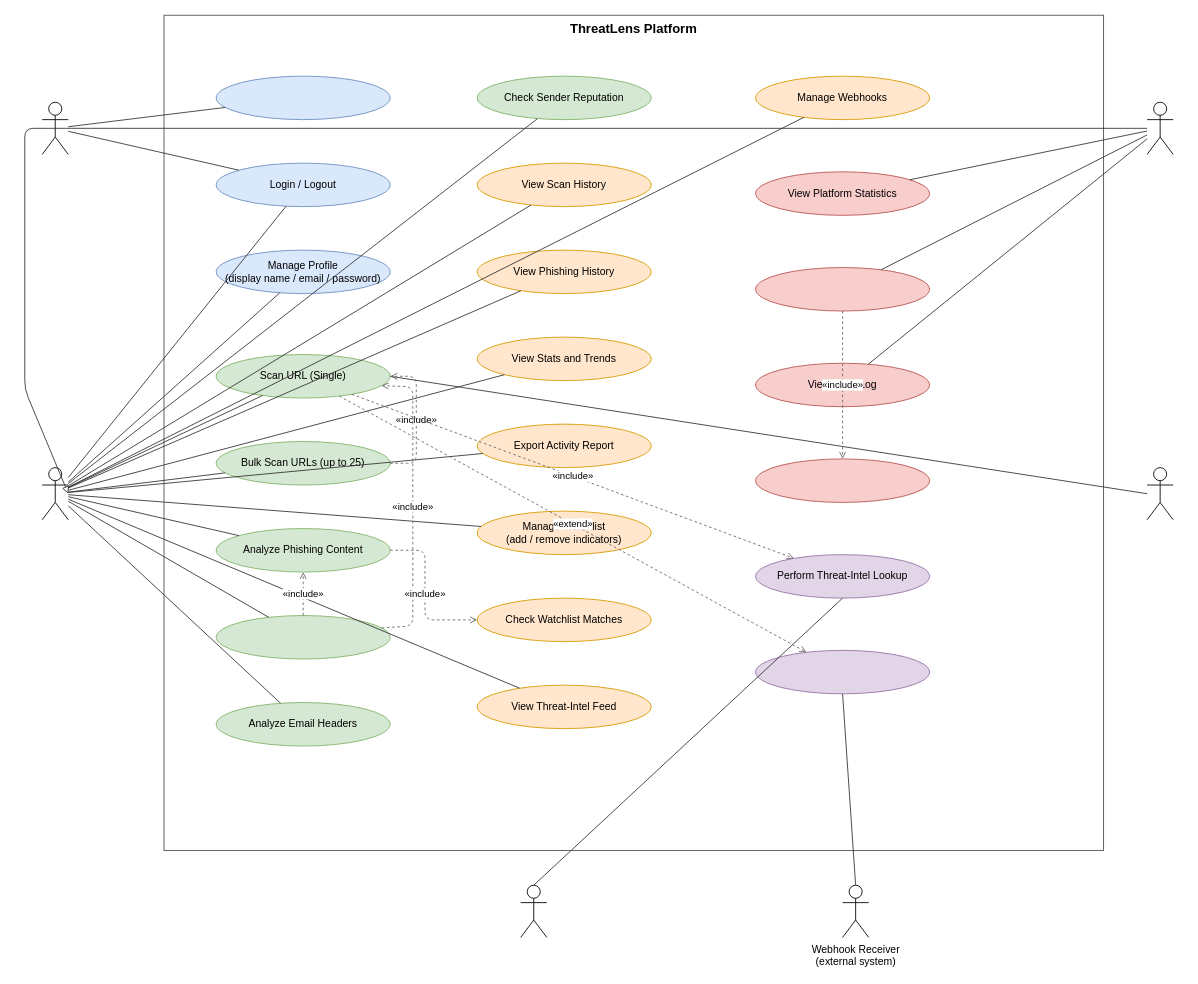
Image size: 1198x984. Some labels were removed from this diagram. Here are the shapes that lost their labels. From the top down, the centre of each, then its label:
the point at 302,97: Register Account
the point at 54,127: Visitor (unauthenticated)
the point at 1159,127: Admin
the point at 842,289: Manage Users (promote / demote / delete)
the point at 54,493: User (authenticated)
the point at 842,480: Record Audit Entry
the point at 1159,493: Browser Extension
the point at 302,637: Inspect Message Links
the point at 842,671: Deliver Webhook Notification
the point at 533,910: Threat-Intel Providers (VirusTotal / Safe Browsing / PhishTank)
